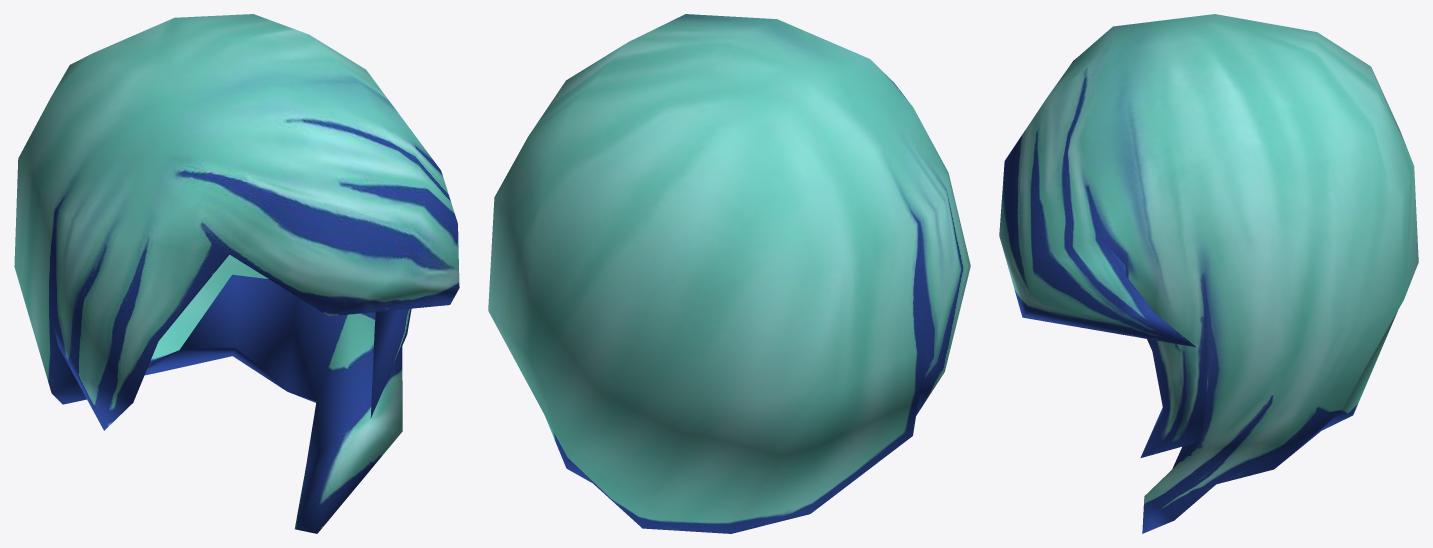
File: Hair_Girl_Style_04__UV_v003.fbx
3 renders of one model, left to right at view 1: azimuth 30°, elevation 25°; view 2: azimuth 150°, elevation 25°; view 3: azimuth 270°, elevation 25°, orthographic. The views are drawn at different scales.
Parts seen in each view (by area): view 1: Head1; view 2: Head1; view 3: Head1.
Part boxes in pixels (x1,y1,x2,y2): Head1: (14, 14, 459, 533); Head1: (488, 14, 970, 533); Head1: (999, 14, 1418, 533).
Size of the model in its own units: 3.05 by 3.68 by 2.97.
Materials: 1 (1 with a texture image).
